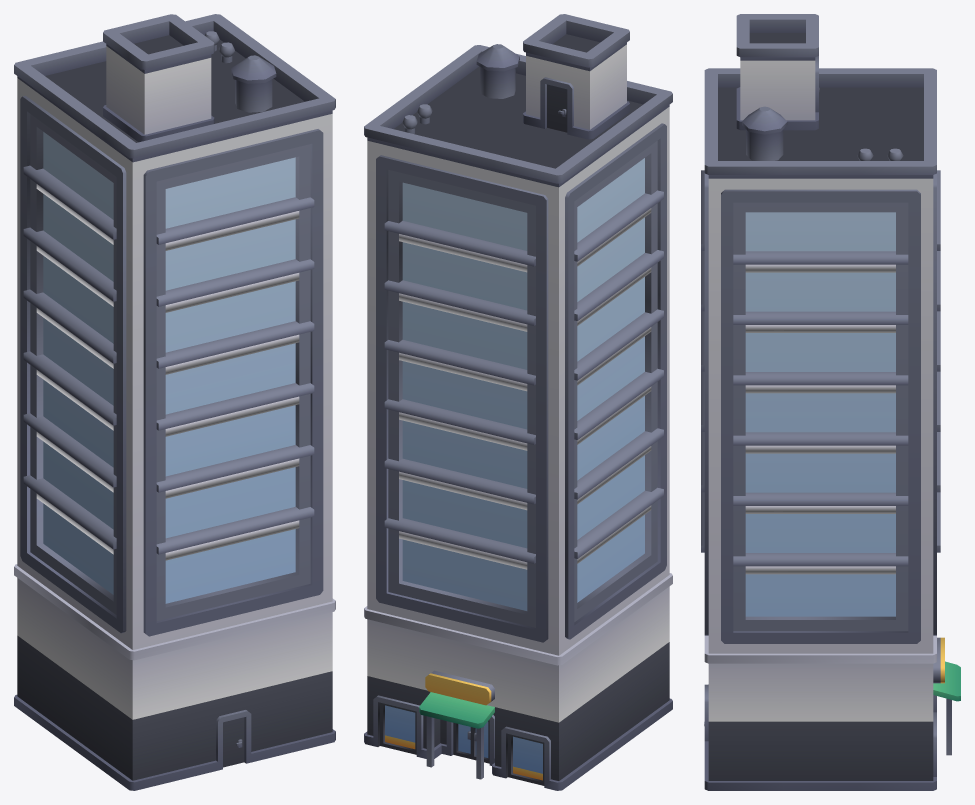
Rendered from k_c_building-skyscraper-c.glb.
3 renders of one model, left to right at view 1: azimuth 30°, elevation 25°; view 2: azimuth 150°, elevation 25°; view 3: azimuth 270°, elevation 25°, orthographic. The views are drawn at different scales.
Parts seen in each view (by area): view 1: building-skyscraper-c; view 2: building-skyscraper-c; view 3: building-skyscraper-c.
Part boxes in pixels (left/top/right/bottom): building-skyscraper-c: left=14, top=14, right=335, bottom=790; building-skyscraper-c: left=364, top=14, right=672, bottom=790; building-skyscraper-c: left=701, top=14, right=960, bottom=790.
Size of the model in its own units: 1.28 by 4.08 by 1.39.
1 material, 1 textured.
